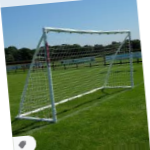goals: (16, 26, 136, 126)
